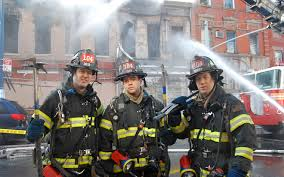emergent: (173, 57, 256, 176), (31, 48, 101, 174), (104, 60, 177, 177)
